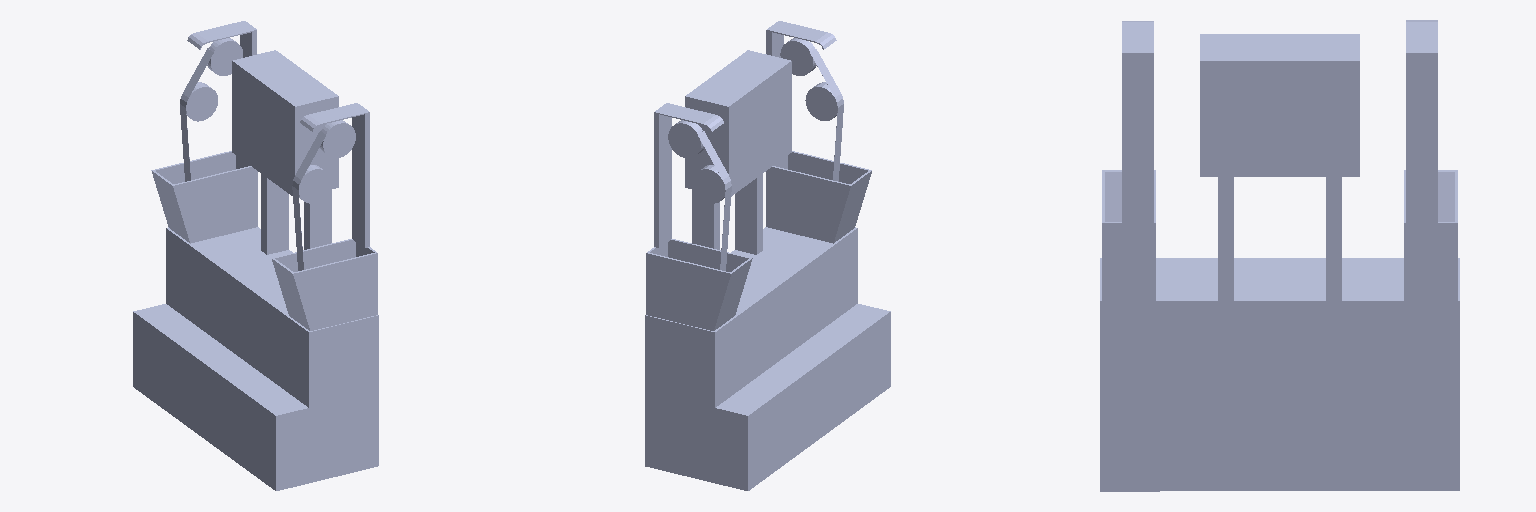
The robot description file, URDF, robot "SBIRgrinding":
<?xml version="1.0" encoding="utf-8"?>
<!-- This URDF was automatically created by SolidWorks to URDF Exporter! Originally created by [author] ([email redacted]) 
     Commit Version: 1.6.0-1-g15f4949  Build Version: 1.6.7594.29634
     For more information, please see http://wiki.ros.org/sw_urdf_exporter -->
<robot
  name="SBIRgrinding">
  <link
    name="world"/>
    <inertial>
      <origin
        xyz="0 0 0"
        rpy="0 0 0" />
    </inertial>
  <joint
    name="fixed"
    type="fixed">
    <origin
      xyz="1.064 0.235 -0.64317"
      rpy="0 0 -1.57" />
    <parent
      link="world" />
    <child
      link="grinding" />
  </joint>
  <link
    name="grinding">
    <inertial>
      <origin
        xyz="1.064 0.235 -0.64317"
        rpy="0 0 -1.57" />
      <mass
        value="50.043" />
      <inertia
        ixx="10"
        ixy="0"
        ixz="0"
        iyy="10"
        iyz="0"
        izz="10" />
    </inertial>
    <visual>
      <pose>1.064 0.235 -0.64317 0 0 -1.57</pose>
      <origin
        xyz="0 0 0"
        rpy="0 0 0" />
      <geometry>
        <mesh
          filename="package://resetrobot/meshes/SBIRgrinding.STL" scale="0.001 0.001 0.001" />
      </geometry>
      <material
        name="">
        <color
          rgba="0.79216 0.81961 0.93333 1" />
      </material>
    </visual>
    <collision>
      <origin
        xyz="0 0 0"
        rpy="0 0 0" />
      <geometry>
        <mesh
          filename="package://resetrobot/meshes/SBIRgrinding.STL" scale="0.001 0.001 0.001"  />
      </geometry>
    </collision>
  </link>

  <!-- Gazebo-specific link properties  -->
  <gazebo reference="grinding">
    <material>Gazebo/Orange</material>
    <turnGravityOff>True</turnGravityOff>
  </gazebo>
</robot>

--- What the picture shows (computed from the rendered views, not written in the file) ---
3 views of the same robot in one strip: view 1: azimuth 30°, elevation 25°; view 2: azimuth 150°, elevation 25°; view 3: azimuth 270°, elevation 25° (orthographic).
Model SBIRgrinding with 2 links and 1 joints (1 fixed), rooted at world, posed every joint at zero.
Links seen in each view (by area): view 1: grinding; view 2: grinding; view 3: grinding.
Boxes of the visible links, x1,y1,x2,y2 form: grinding: (133, 21, 378, 490); grinding: (645, 21, 890, 490); grinding: (1100, 20, 1459, 491).
Bounding box of the posed robot: 0.4709 × 1.13 × 1.52 m (x, y, z).
1 mesh visuals loaded from 1 distinct referenced files (1 ASCII STL).